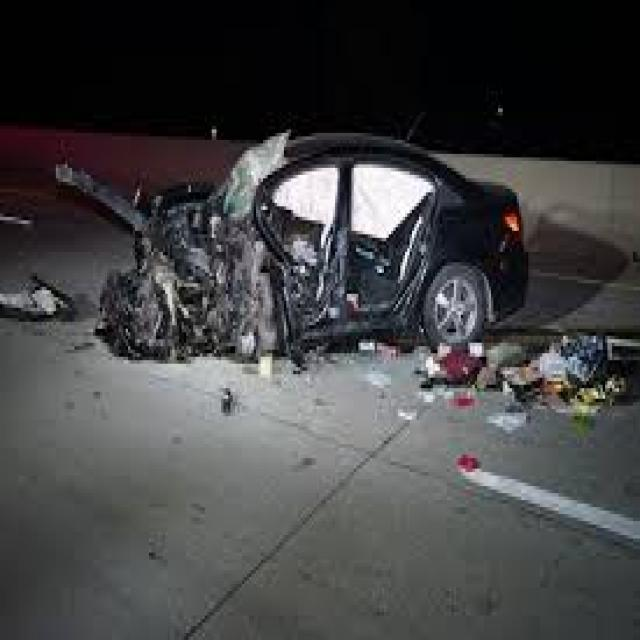car-serious-accident: (53, 103, 540, 374)
